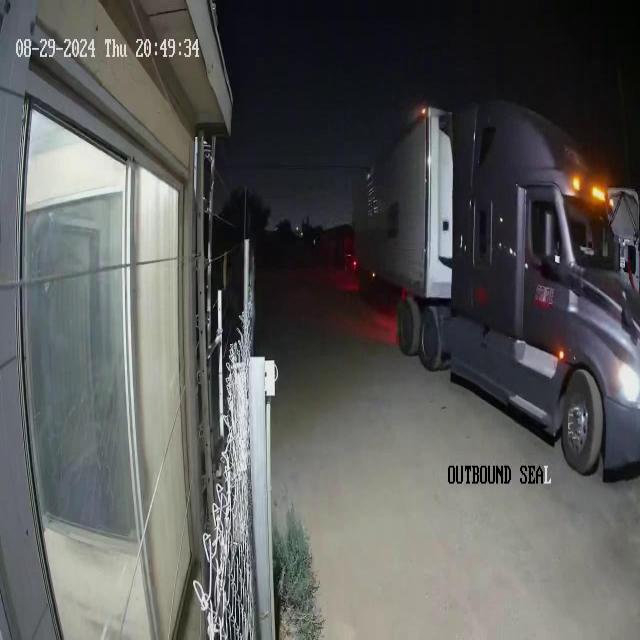CONTAINER: (354, 96, 452, 300)
